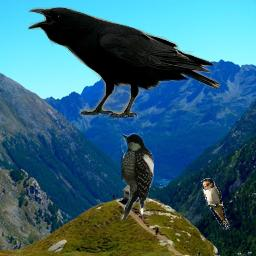Crow: (28, 7, 221, 120)
Swallow: (199, 178, 230, 230)
Woodpecker: (120, 133, 154, 221)
